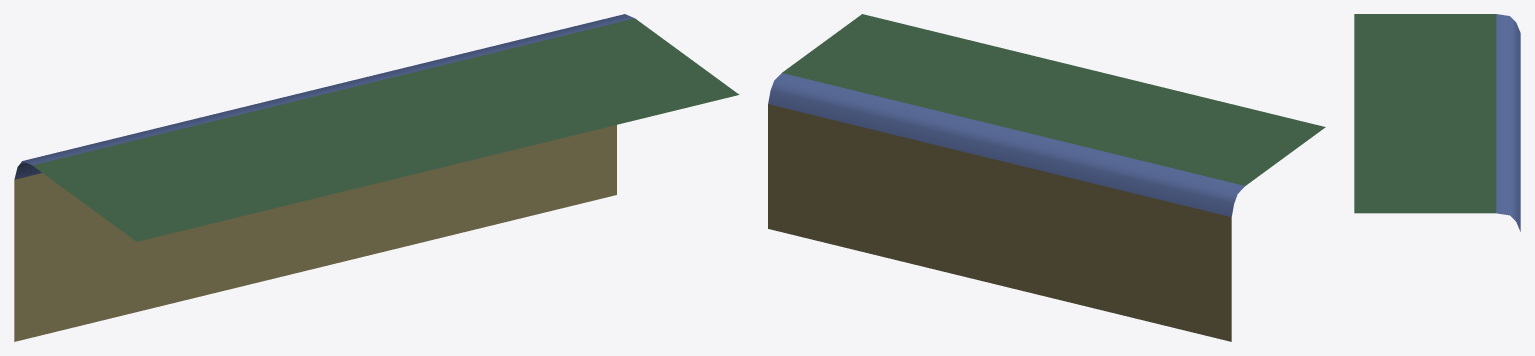
The model's file is Tercera_plat.fbx.
The picture shows the model from 3 angles, left to right: view 1: azimuth 30°, elevation 25°; view 2: azimuth 150°, elevation 25°; view 3: azimuth 270°, elevation 25°; orthographic projection. The views are drawn at different scales.
Visible parts, largest first — view 1: Ground9, Tercera_plat, Wall9; view 2: Tercera_plat, Ground9, Wall9; view 3: Ground9, Wall9.
Boxes of the visible parts, left/top/right/bottom form: Ground9: left=32, top=18, right=739, bottom=241; Tercera_plat: left=14, top=125, right=616, bottom=341; Wall9: left=14, top=14, right=634, bottom=179; Tercera_plat: left=768, top=104, right=1231, bottom=341; Ground9: left=782, top=14, right=1325, bottom=185; Wall9: left=768, top=73, right=1244, bottom=216; Ground9: left=1354, top=14, right=1496, bottom=213; Wall9: left=1496, top=14, right=1520, bottom=231.
Size of the model in its own units: 17677 by 5315 by 6221.
